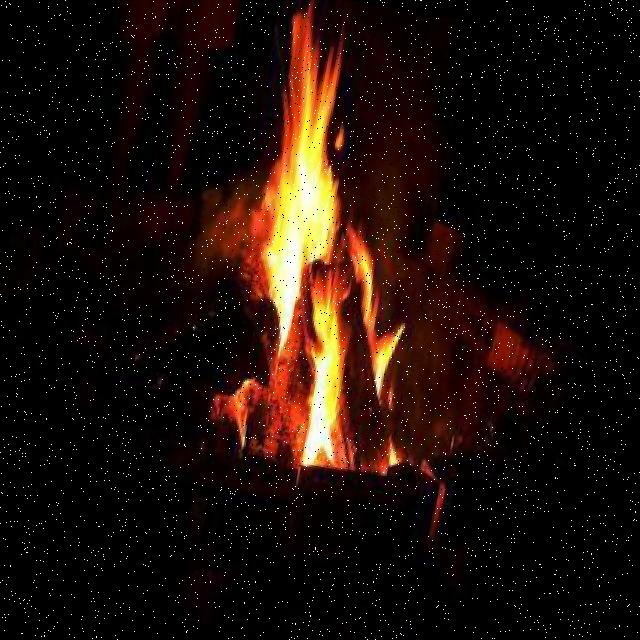fire: (160, 0, 482, 497)
